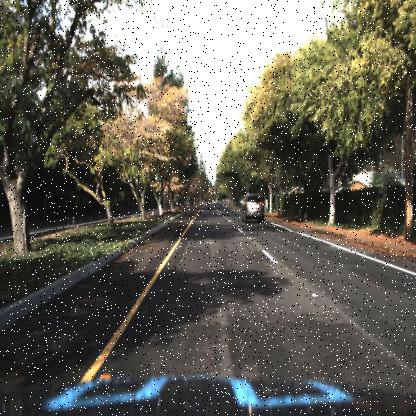car: (240, 193, 266, 225)
